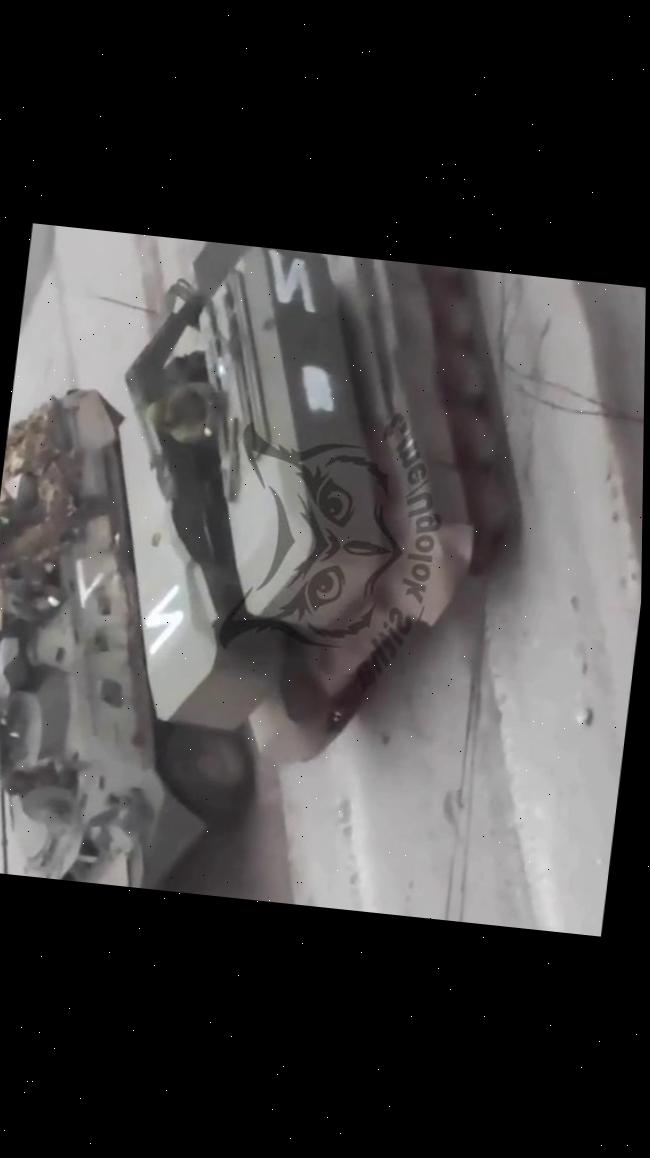person: (0, 490, 93, 572)
rszo: (80, 234, 550, 792), (0, 375, 296, 898)
